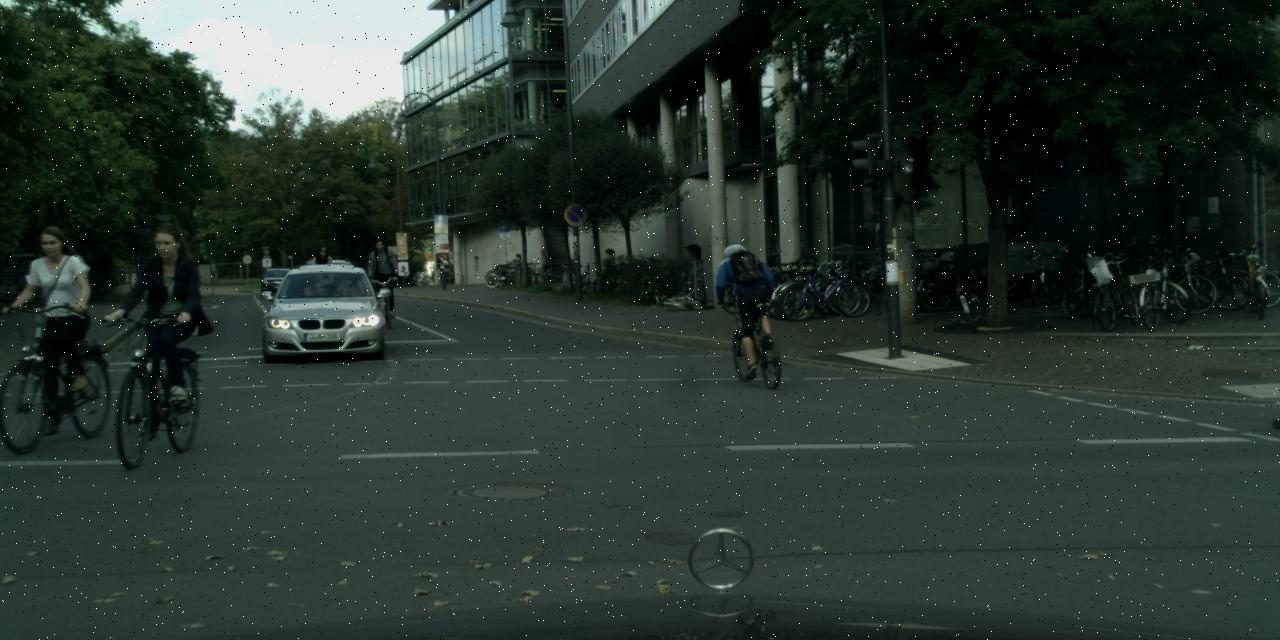ped: (122, 224, 202, 417), (18, 225, 93, 408), (724, 242, 770, 354), (368, 240, 396, 309), (311, 245, 334, 302)
